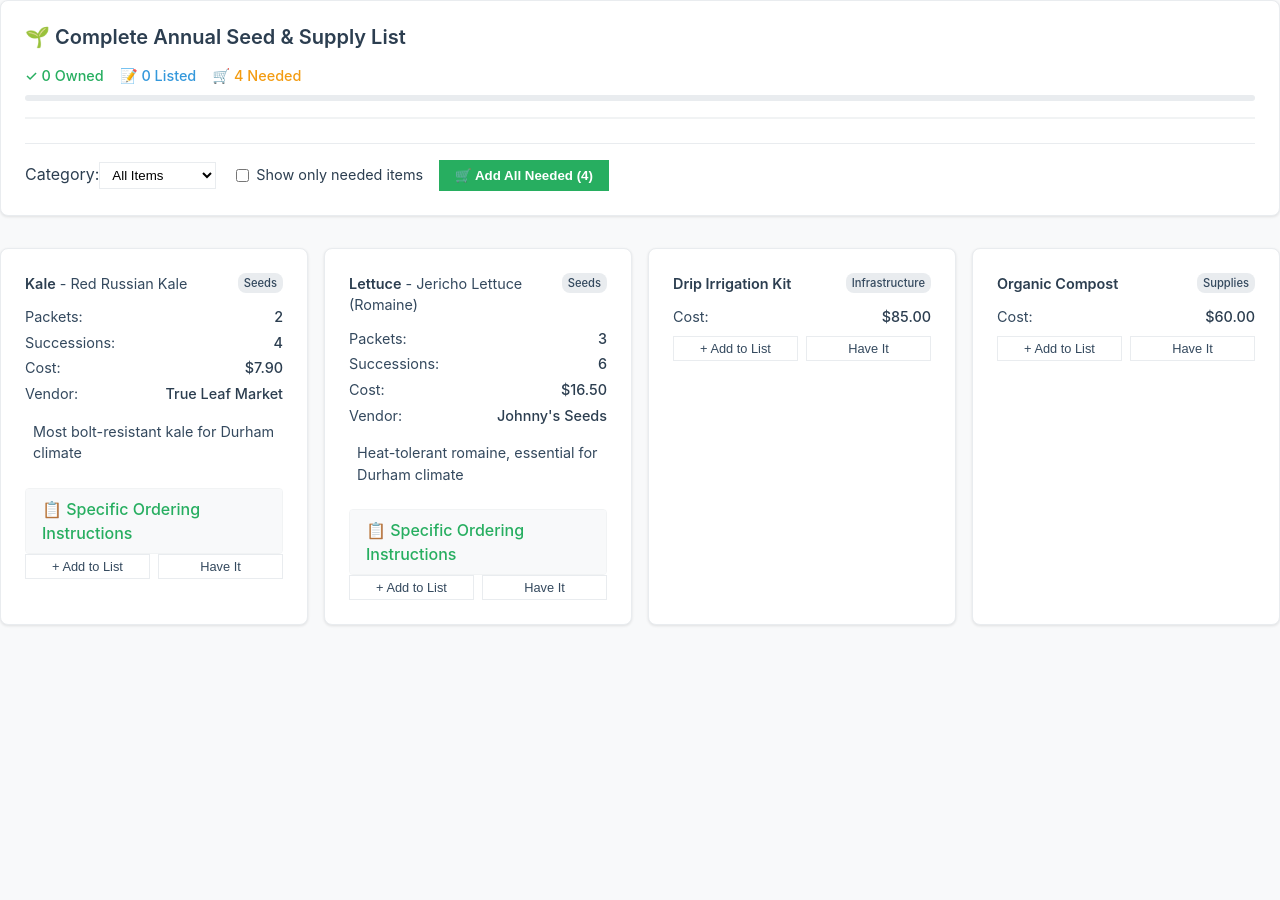
Test: AnnualSeedPlanPanel › Filtering › filters by category
Select "Seeds" in the dropdown showing "All Items" at (158, 175), box left=99, top=162, right=216, bottom=189
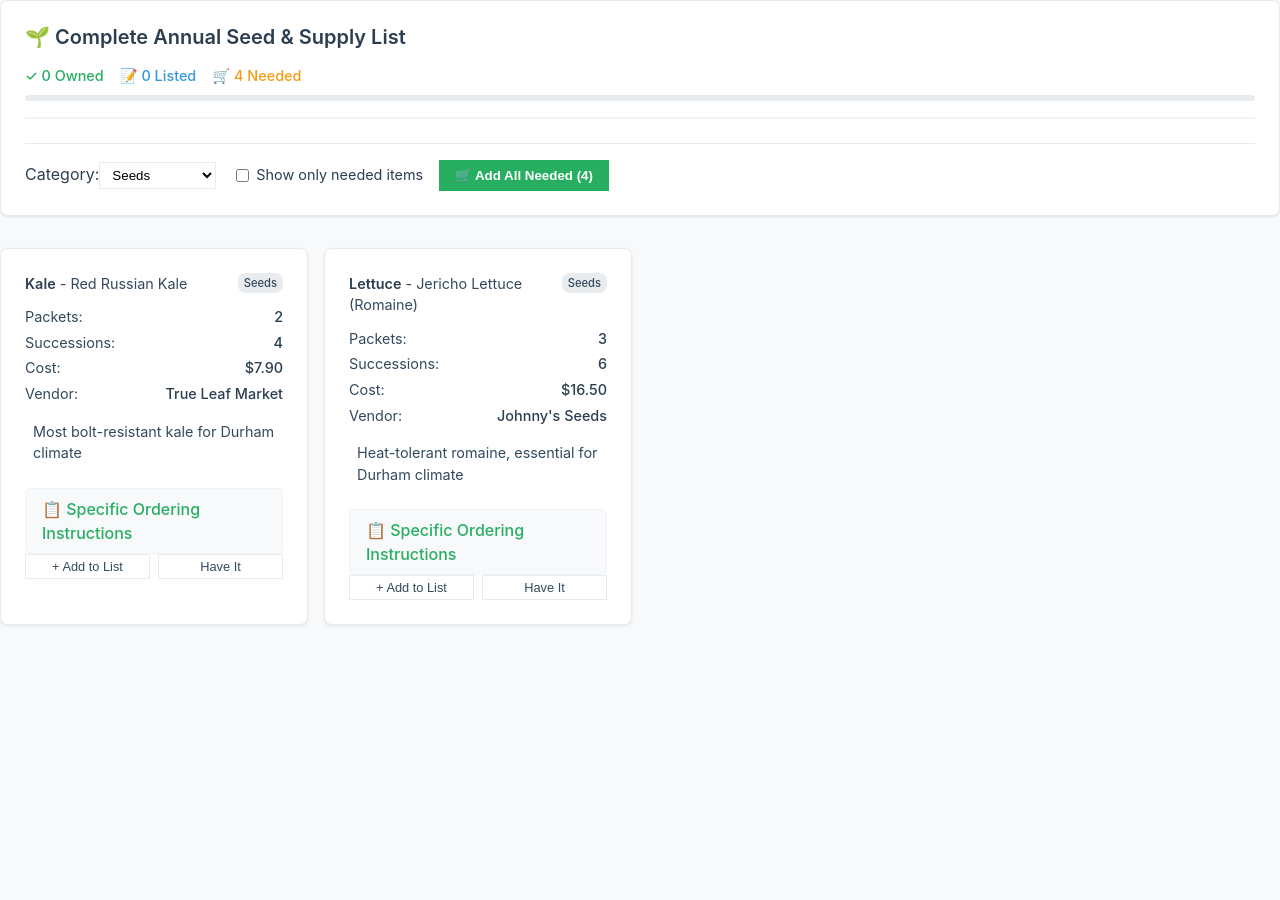
expect the text "Kale" is shown: met, box left=25, top=275, right=56, bottom=292
expect the text "Drip Irrigation Kit" is gone: met
